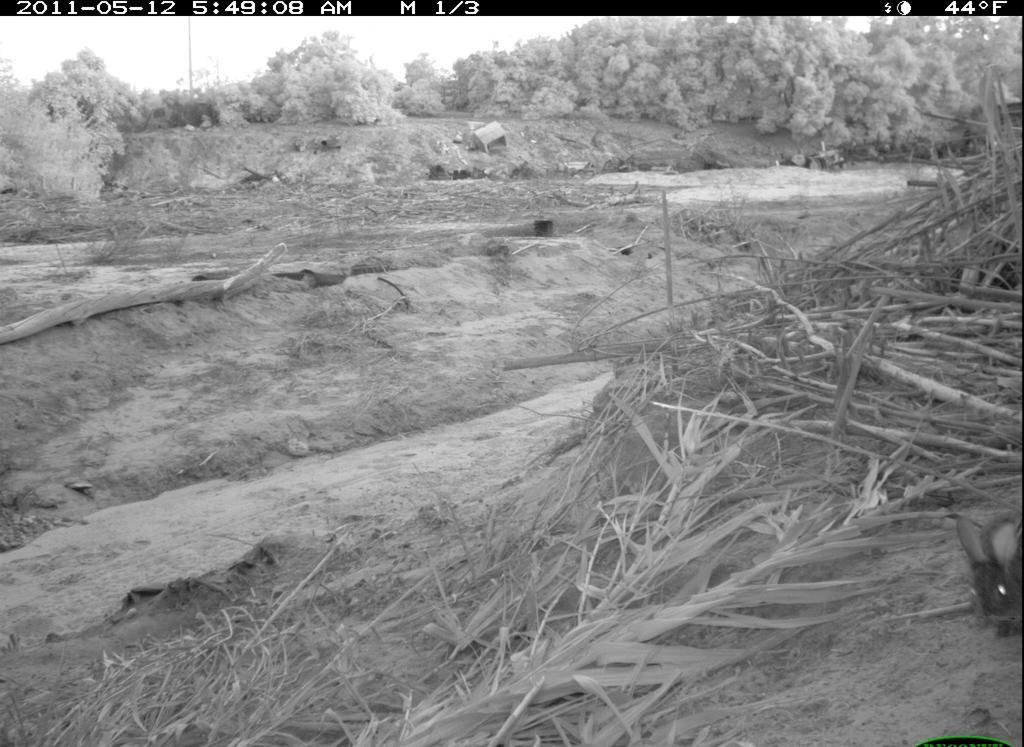rabbit: (953, 506, 1023, 642)
